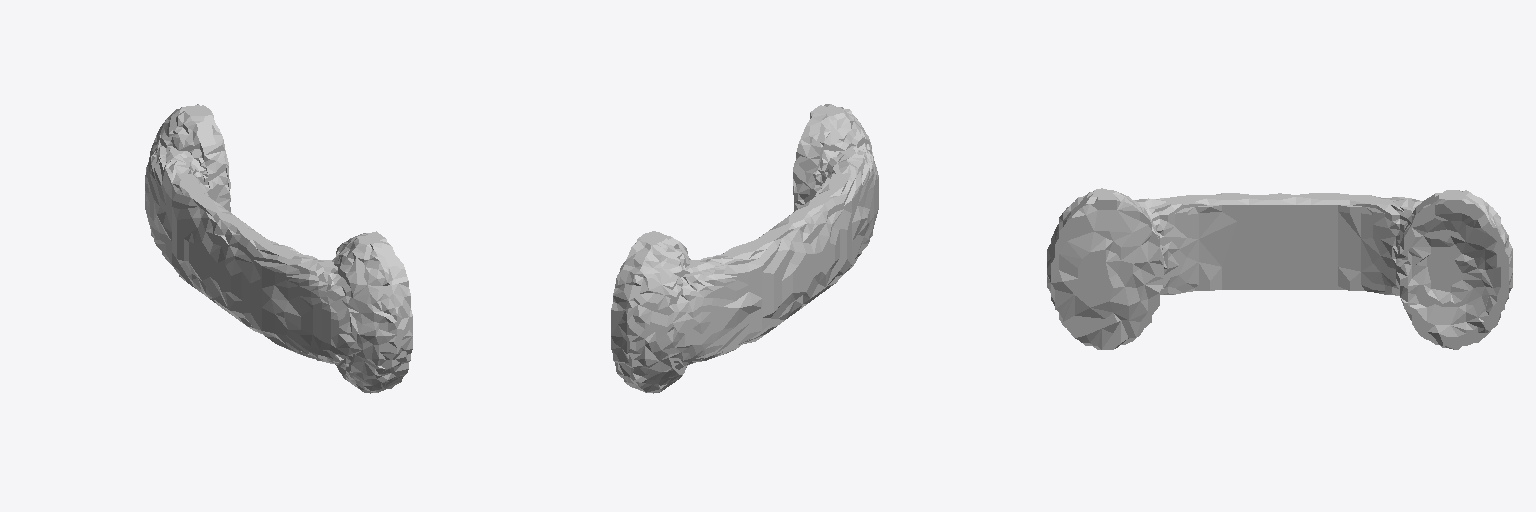
The model's file is tinker.obj.
The picture shows the model from 3 angles: view 1: azimuth 30°, elevation 25°; view 2: azimuth 150°, elevation 25°; view 3: azimuth 270°, elevation 25°; orthographic projection.
Visible parts, largest first — view 1: obj_0.056; view 2: obj_0.056; view 3: obj_0.056.
Part boxes in pixels (left/top/right/bottom): obj_0.056: left=145, top=104, right=412, bottom=393; obj_0.056: left=611, top=104, right=878, bottom=393; obj_0.056: left=1047, top=188, right=1512, bottom=349.
Size of the model in its own units: 2.75 by 4.25 by 12.